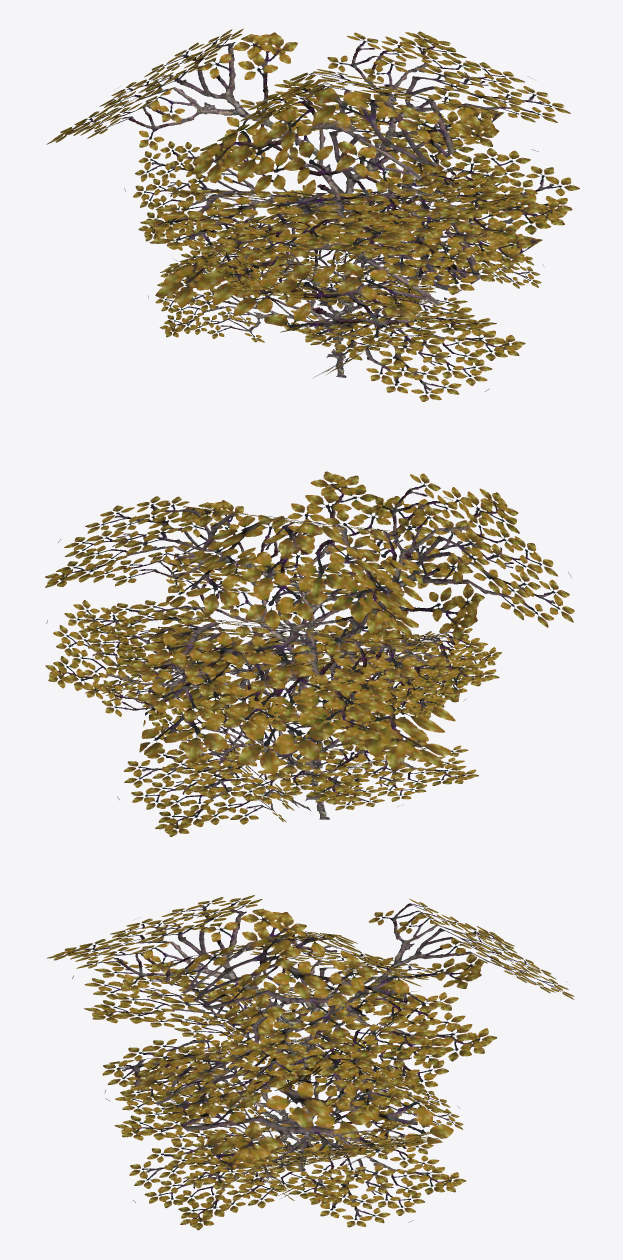
The model's file is flora_tree_bush_temperate_autumn_v2.glb.
3 renders of one model, top to bottom at view 1: azimuth 30°, elevation 25°; view 2: azimuth 150°, elevation 25°; view 3: azimuth 270°, elevation 25°, orthographic. The views are drawn at different scales.
Parts seen in each view (by area): view 1: flora_tree_bush_temperate_autumn_v2_part0; view 2: flora_tree_bush_temperate_autumn_v2_part0; view 3: flora_tree_bush_temperate_autumn_v2_part0.
Boxes of the visible parts, x1,y1,x2,y2 form: flora_tree_bush_temperate_autumn_v2_part0: (46,28,579,401); flora_tree_bush_temperate_autumn_v2_part0: (45,471,574,836); flora_tree_bush_temperate_autumn_v2_part0: (47,895,574,1230).
Size of the model in its own units: 13.13 by 6.98 by 14.19.
Materials: 1 (1 with a texture image).
